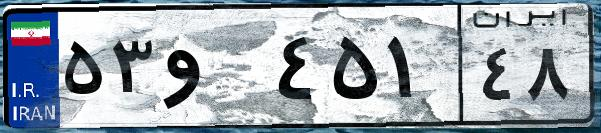1: (385, 28, 445, 110)
3: (110, 28, 158, 98)
4: (270, 28, 330, 110), (475, 38, 525, 113)
5: (330, 28, 385, 110), (57, 26, 110, 100)
8: (525, 38, 570, 115)
و: (158, 20, 270, 120)
